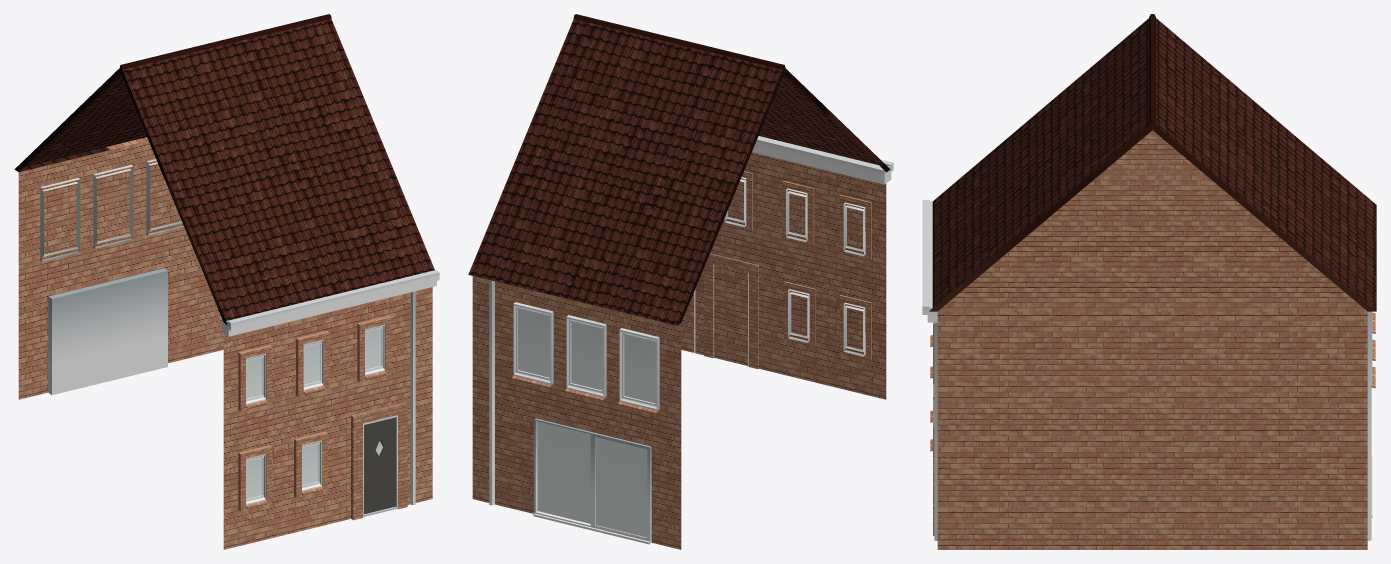
Rendered from Buorkerij_63.fbx.
3 views of the same model, side by side, from view 1: azimuth 30°, elevation 25°; view 2: azimuth 150°, elevation 25°; view 3: azimuth 270°, elevation 25° (orthographic). The views are drawn at different scales.
Parts seen in each view (by area): view 1: Buorkerij_63; view 2: Buorkerij_63; view 3: Buorkerij_63.
Boxes of the visible parts, bbox=[...] form: Buorkerij_63: bbox=[14, 14, 439, 549]; Buorkerij_63: bbox=[468, 14, 893, 549]; Buorkerij_63: bbox=[922, 14, 1376, 549].
Bounding box in the file's own units: 557 × 1044 × 1001.
